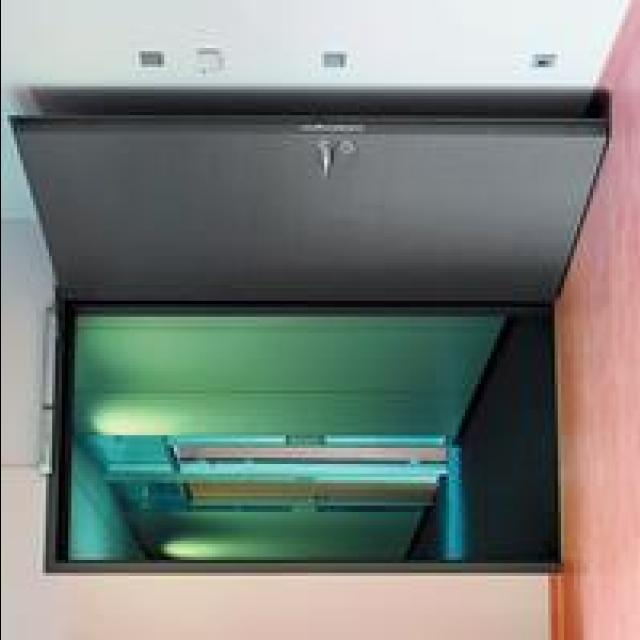open: (42, 99, 580, 568)
